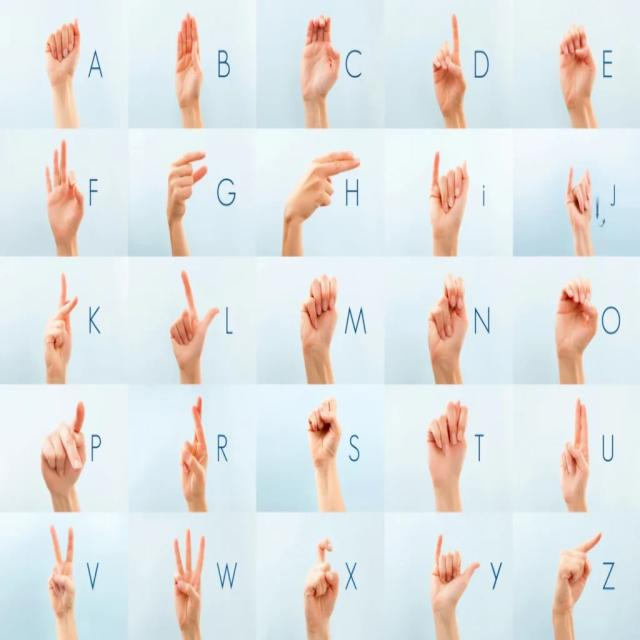A: (26, 11, 104, 130)
B: (159, 12, 225, 130)
C: (287, 8, 357, 130)
D: (414, 7, 487, 130)
E: (550, 5, 608, 130)
F: (34, 136, 99, 255)
G: (157, 142, 227, 258)
H: (274, 146, 369, 258)
I: (420, 145, 482, 257)
J: (551, 156, 616, 256)
K: (28, 265, 100, 384)
L: (156, 265, 228, 384)
M: (285, 270, 355, 386)
N: (414, 268, 487, 388)
O: (552, 272, 603, 385)
P: (27, 403, 112, 512)
R: (161, 389, 230, 514)
S: (292, 394, 363, 511)
T: (417, 397, 488, 508)
U: (556, 400, 603, 514)
V: (31, 520, 96, 631)
W: (162, 519, 222, 639)
X: (292, 525, 352, 638)
Y: (420, 524, 485, 638)
Z: (538, 521, 616, 640)
